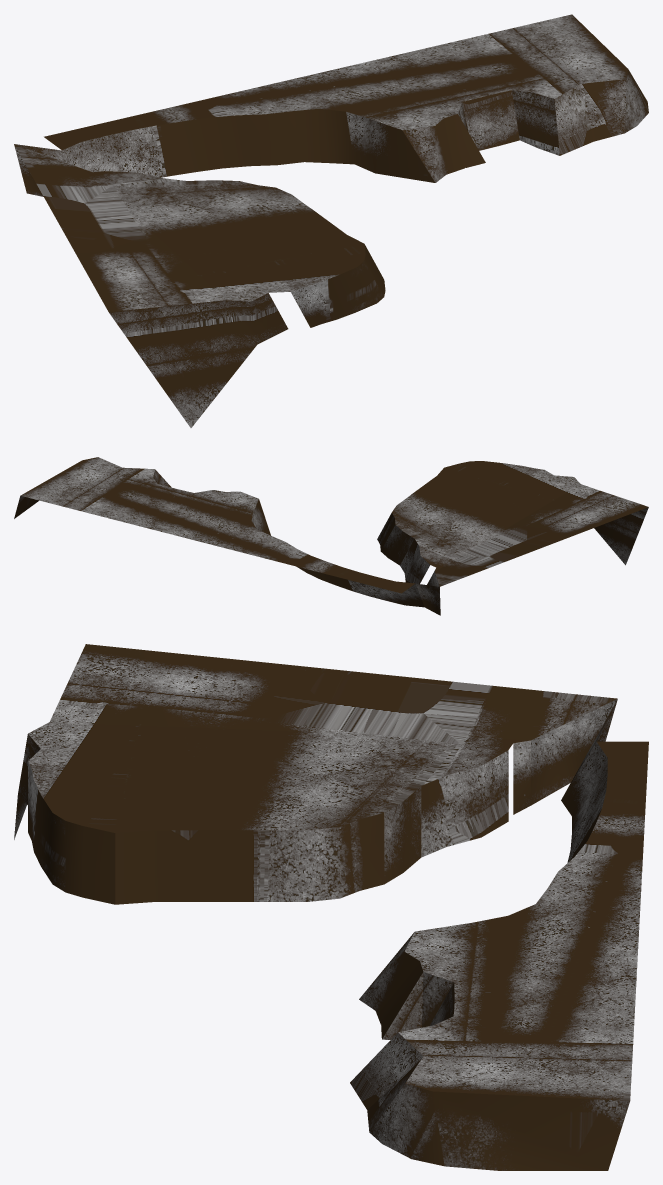
File: suelo_exterior_1.obj
The picture shows the model from 3 angles, top to bottom: view 1: azimuth 30°, elevation 25°; view 2: azimuth 150°, elevation 25°; view 3: azimuth 270°, elevation 25°; orthographic projection. The views are drawn at different scales.
Parts seen in each view (by area): view 1: suelo_exterior_1; view 2: suelo_exterior_1; view 3: suelo_exterior_1.
Part boxes in pixels (x1,y1,x2,y2): suelo_exterior_1: (14, 14, 648, 427); suelo_exterior_1: (14, 457, 648, 615); suelo_exterior_1: (14, 644, 648, 1170).
Size of the model in its own units: 1054 by 178 by 611.
